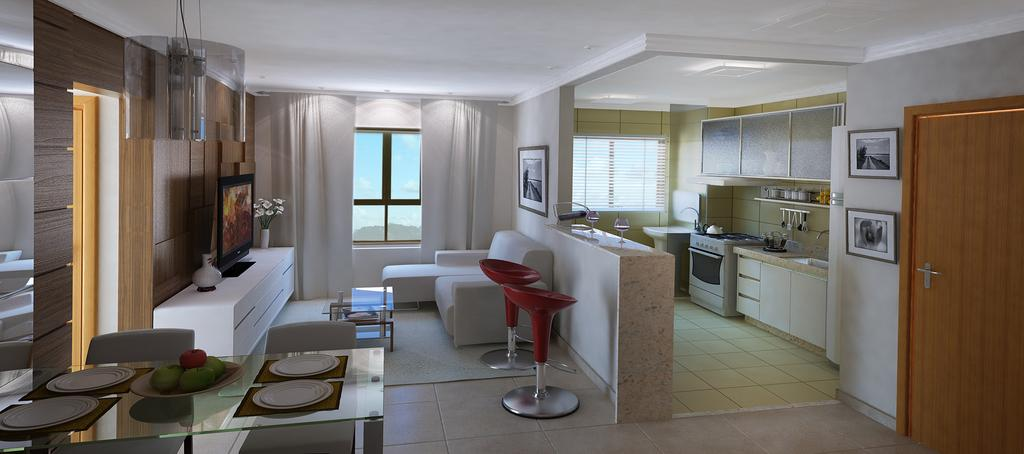cabinet_door: (786, 276, 826, 347), (758, 264, 790, 328), (734, 296, 758, 314), (738, 275, 760, 293), (738, 258, 760, 271)
handle: (915, 264, 943, 280)
